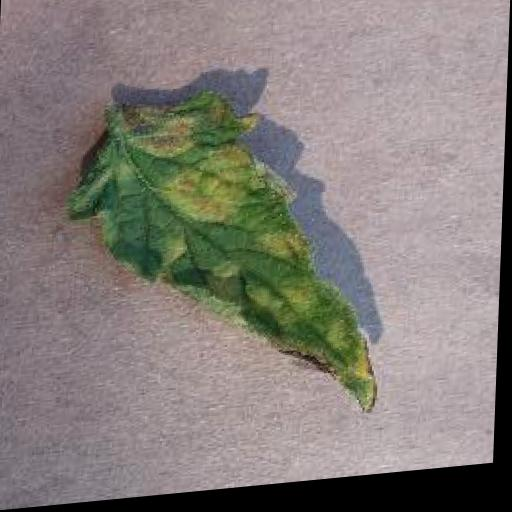Leaf Mold: (62, 88, 390, 441)
